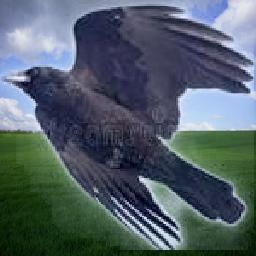Crow: (0, 0, 254, 250)
